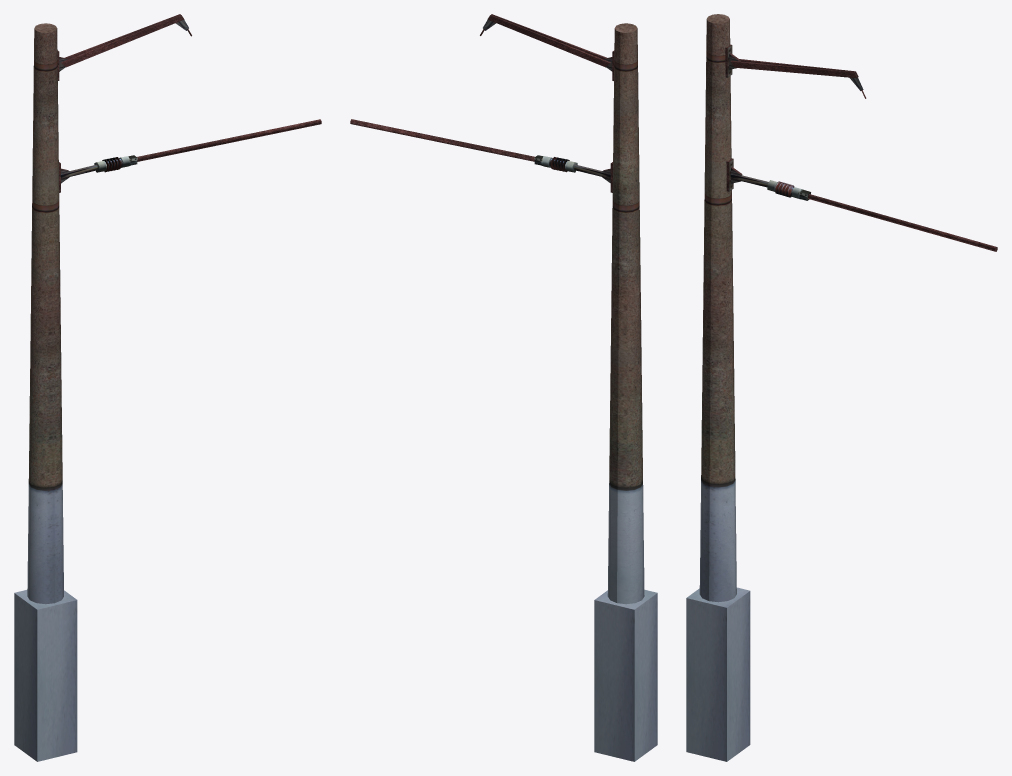
File: opk1l4.gltf
3 renders of one model, left to right at view 1: azimuth 30°, elevation 25°; view 2: azimuth 150°, elevation 25°; view 3: azimuth 330°, elevation 25°, orthographic.
Size of the model in its own units: 4.92 by 11.49 by 0.67.
Materials: 1 (1 with a texture image).
